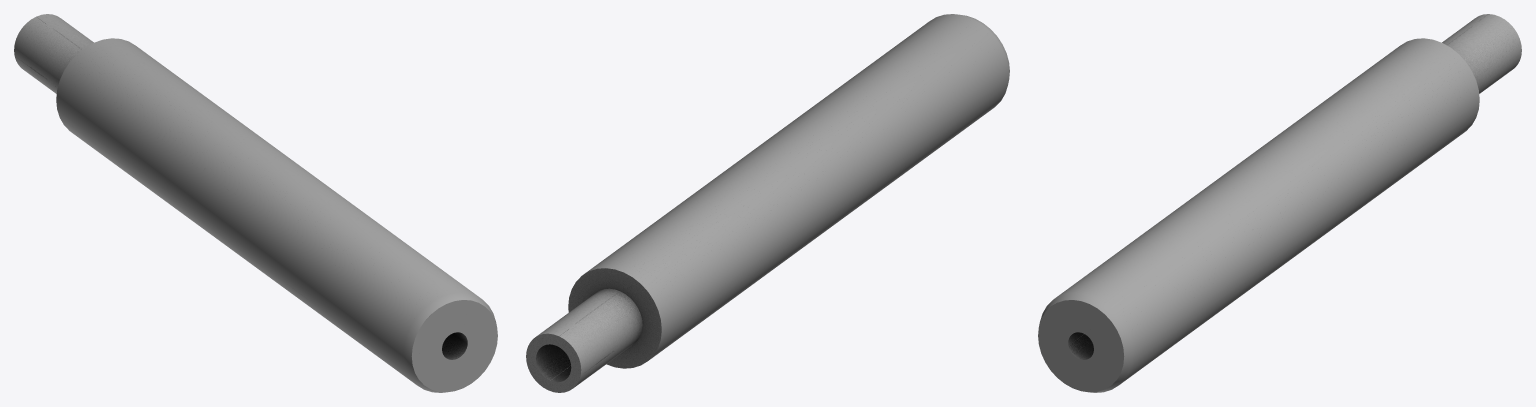
The model's file is att_silencer.dae.
3 renders of one model, left to right at view 1: azimuth 30°, elevation 25°; view 2: azimuth 150°, elevation 25°; view 3: azimuth 330°, elevation 25°, orthographic.
Visible parts, largest first — view 1: Silencer; view 2: Silencer; view 3: Silencer.
Boxes of the visible parts, x1=… form: Silencer: x1=14, y1=14, x2=497, y2=392; Silencer: x1=526, y1=14, x2=1009, y2=392; Silencer: x1=1038, y1=14, x2=1521, y2=392.
Bounding box in the file's own units: 0.0329 × 0.2513 × 0.0329.
1 material, 1 textured.
